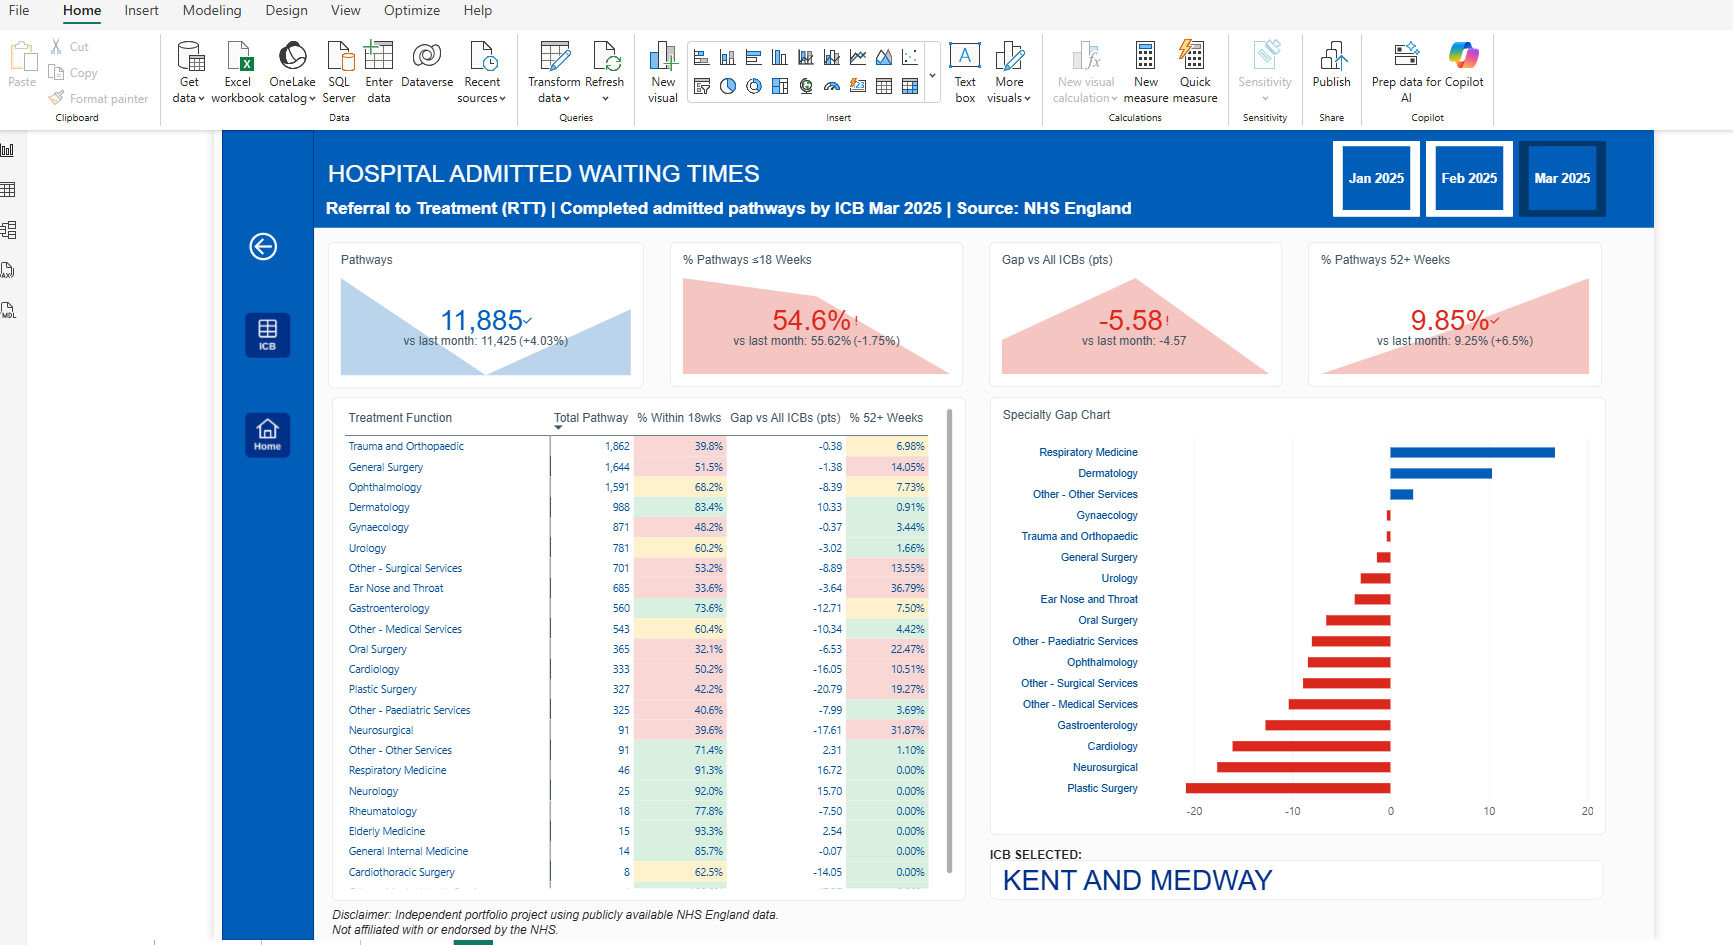

This screenshot's page, from the dashboard's own definition file:
{"tool":"powerbi","page":{"name":"ICB Details","canvas":[1920,1080],"ordinal":1},"visuals":[{"type":"shape","title":"Nav_Bar","box":[10.5,0,122.7,1080.5],"z":0},{"type":"kpi","title":"Pathways","fields":{"Goal":["Measures_Table.Total Pathway LastMonth"],"Indicator":["Measures_Table.Total Pathway"],"TrendLine":["Calendar_Table.Month Year"]},"box":[152.6,149.6,420.5,194.5],"z":0,"group":"g1"},{"type":"shape","title":"Header_Bar","box":[133.2,0,1786.8,130.2],"z":1000},{"type":"kpi","title":"% Pathways ≤18 Weeks","fields":{"Goal":["Measures_Table.% Within 18 weeks last month"],"Indicator":["Measures_Table.% Within 18wks"],"TrendLine":["Calendar_Table.Month Year"]},"box":[608,149.6,390.6,193],"z":1000,"group":"g1"},{"type":"kpi","title":"Gap vs All ICBs (pts)","fields":{"Goal":["Measures_Table.Gap vs All ICBs Last Month"],"Indicator":["Measures_Table.Gap vs All ICBs (pts)"],"TrendLine":["Calendar_Table.Month Year"]},"box":[1033.5,149.6,390.6,193],"z":2000,"group":"g1"},{"type":"kpi","title":"% Pathways 52+ Weeks","fields":{"Goal":["Measures_Table.% 52+ weeks last month"],"Indicator":["Measures_Table.% 52+ Weeks"],"TrendLine":["Calendar_Table.Month Year"]},"box":[1459,149.6,392.1,193],"z":3000,"group":"g1"},{"type":"advancedSlicerVisual","fields":{"Values":["Calendar_Table.Month Year"]},"box":[1492,14.7,364,101.3],"z":6000},{"type":"group","id":"g1","title":"Group 1","box":[152.6,149.6,1698.5,194.5],"z":8000},{"type":"pivotTable","fields":{"Rows":["Dim_Specialty.Treatment Function"],"Values":["Measures_Table.Total Pathway","Measures_Table.% Within 18wks","Measures_Table.Gap vs All ICBs (pts)","Measures_Table.% 52+ Weeks"]},"box":[157.3,356,845.3,672],"z":9001},{"type":"clusteredBarChart","title":"Specialty Gap Chart","fields":{"Category":["Dim_Specialty.Treatment Function"],"Y":["Measures_Table.Gap vs All ICBs (pts)"]},"box":[1034.7,356,821.3,584],"z":9002},{"type":"actionButton","box":[10.5,104.8,110.5,101],"z":9003},{"type":"cardVisual","fields":{"Data":["Measures_Table.Selected ICB"]},"box":[1034.7,973.8,817.1,53.9],"z":9004,"group":"g2"},{"type":"actionButton","box":[10.6,234.3,122.5,77.1],"z":9005},{"type":"actionButton","box":[10.5,367.6,122.5,77.1],"z":9006},{"type":"cardVisual","fields":{"Data":["Measures_Table.Header Subtitle"]},"box":[133.2,77.8,1144.8,52.4],"z":9007},{"type":"textbox","box":[157.1,1037.1,841,43.4],"z":9008},{"type":"textbox","box":[1034.7,957.3,297.8,31.4],"z":9009,"group":"g2"},{"type":"textbox","box":[152.6,40.4,633,49.4],"z":9010},{"type":"group","id":"g2","title":"Group 2","box":[1034.7,957.3,816,70.7],"z":9011}]}

Visuals, with their boxes on the page's 1920x1080 design canvas (x1, y1, x2, y2). These are canvas units, not pixel positions in the 1733x945 screenshot, which may show the page scaled, cropped or inside an application window:
"Nav_Bar" shape: x1=10 y1=0 x2=133 y2=1080
"Pathways" kpi: x1=153 y1=150 x2=573 y2=344
"Header_Bar" shape: x1=133 y1=0 x2=1920 y2=130
"% Pathways ≤18 Weeks" kpi: x1=608 y1=150 x2=999 y2=343
"Gap vs All ICBs (pts)" kpi: x1=1034 y1=150 x2=1424 y2=343
"% Pathways 52+ Weeks" kpi: x1=1459 y1=150 x2=1851 y2=343
advancedSlicerVisual - Calendar_Table.Month Year: x1=1492 y1=15 x2=1856 y2=116
"Group 1" group: x1=153 y1=150 x2=1851 y2=344
pivotTable - Dim_Specialty.Treatment Function x Measures_Table.Total Pathway: x1=157 y1=356 x2=1003 y2=1028
"Specialty Gap Chart" clusteredBarChart: x1=1035 y1=356 x2=1856 y2=940
actionButton: x1=10 y1=105 x2=121 y2=206
cardVisual - Measures_Table.Selected ICB: x1=1035 y1=974 x2=1852 y2=1028
actionButton: x1=11 y1=234 x2=133 y2=311
actionButton: x1=10 y1=368 x2=133 y2=445
cardVisual - Measures_Table.Header Subtitle: x1=133 y1=78 x2=1278 y2=130
textbox: x1=157 y1=1037 x2=998 y2=1080
textbox: x1=1035 y1=957 x2=1332 y2=989
textbox: x1=153 y1=40 x2=786 y2=90
"Group 2" group: x1=1035 y1=957 x2=1851 y2=1028
